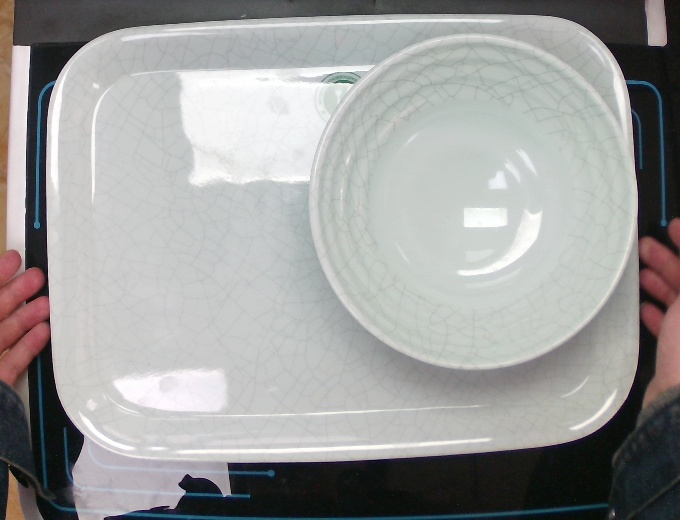JYsf-Da_Tang_Wan: (302, 28, 642, 375)
